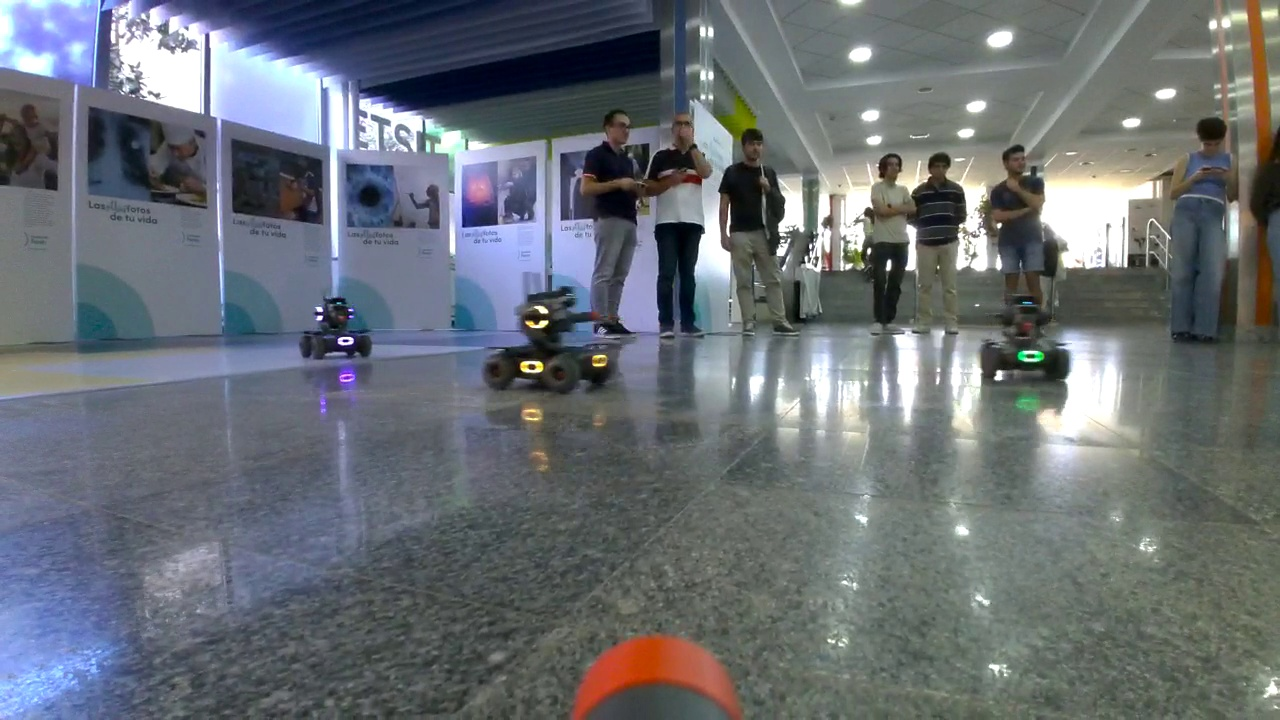robot: (480, 291, 615, 395), (978, 292, 1074, 383), (300, 291, 374, 360)
